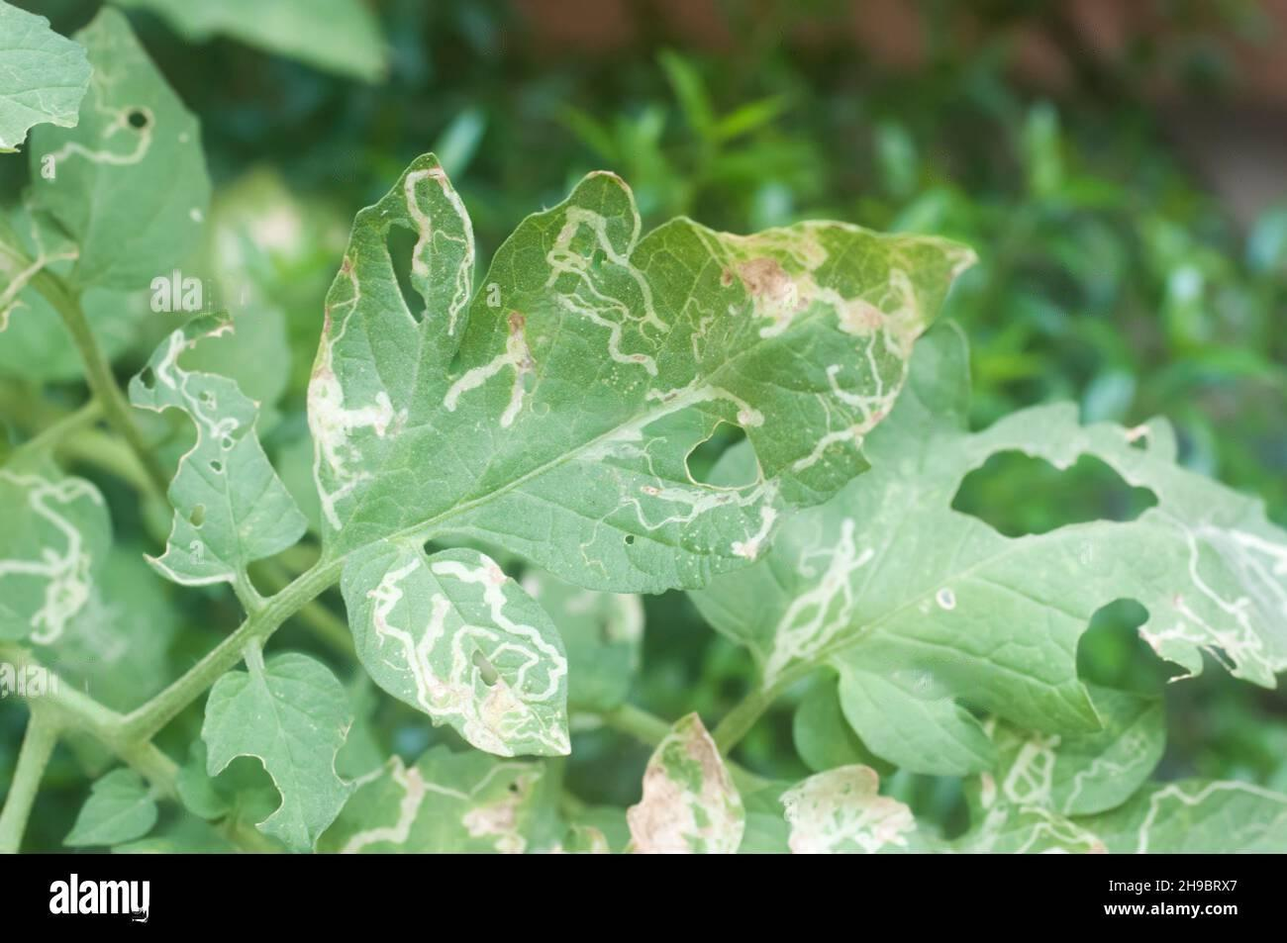Leaf_Miner: (295, 134, 978, 759), (677, 312, 1287, 777), (746, 678, 1287, 853), (21, 5, 213, 300), (132, 307, 307, 590), (318, 734, 634, 851), (0, 457, 111, 661), (617, 707, 747, 856)
